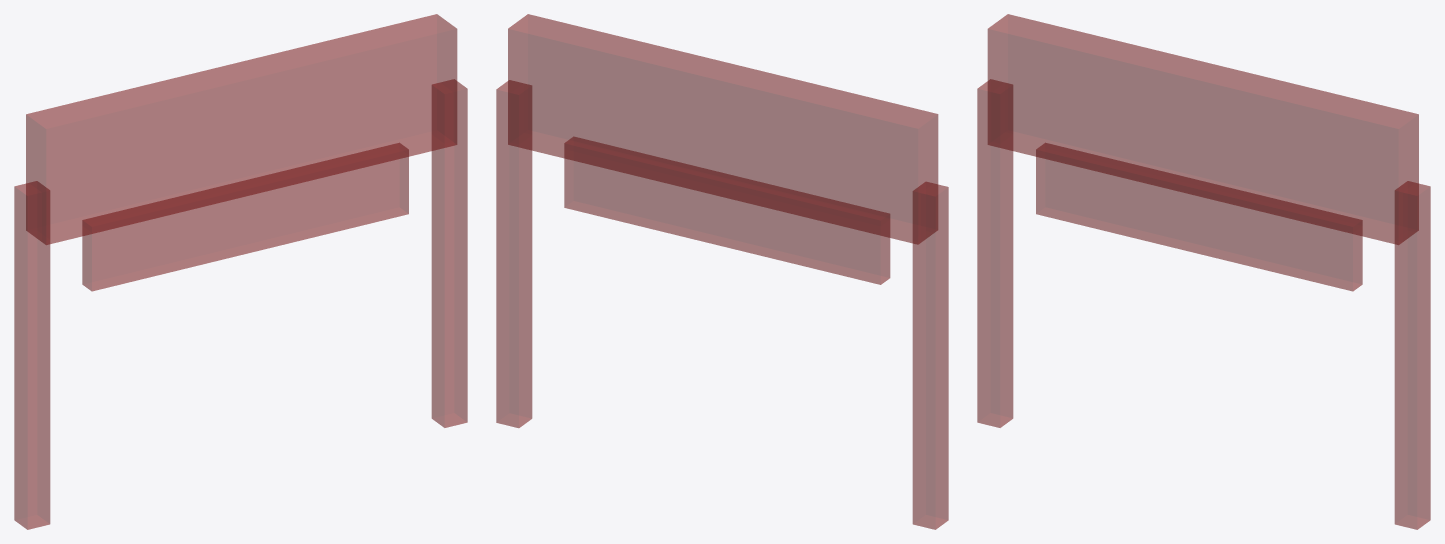
The model's file is SM_Prop_Sign_02_Collision.fbx.
The picture shows the model from 3 angles, left to right: view 1: azimuth 30°, elevation 25°; view 2: azimuth 150°, elevation 25°; view 3: azimuth 330°, elevation 25°; orthographic projection.
Parts seen in each view (by area): view 1: SM_Prop_Sign_02_Collision; view 2: SM_Prop_Sign_02_Collision; view 3: SM_Prop_Sign_02_Collision.
Boxes of the visible parts, x1=… form: SM_Prop_Sign_02_Collision: x1=14, y1=14, x2=467, y2=529; SM_Prop_Sign_02_Collision: x1=496, y1=14, x2=948, y2=529; SM_Prop_Sign_02_Collision: x1=977, y1=14, x2=1430, y2=529.
Size of the model in its own units: 528 by 459 by 42.04.
